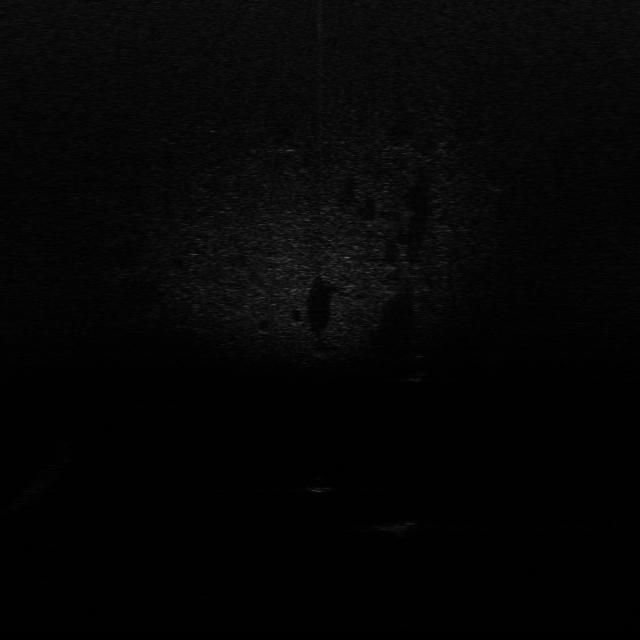ball: (302, 475, 333, 494)
square cage: (377, 516, 424, 537)
tyre: (406, 354, 430, 384)
